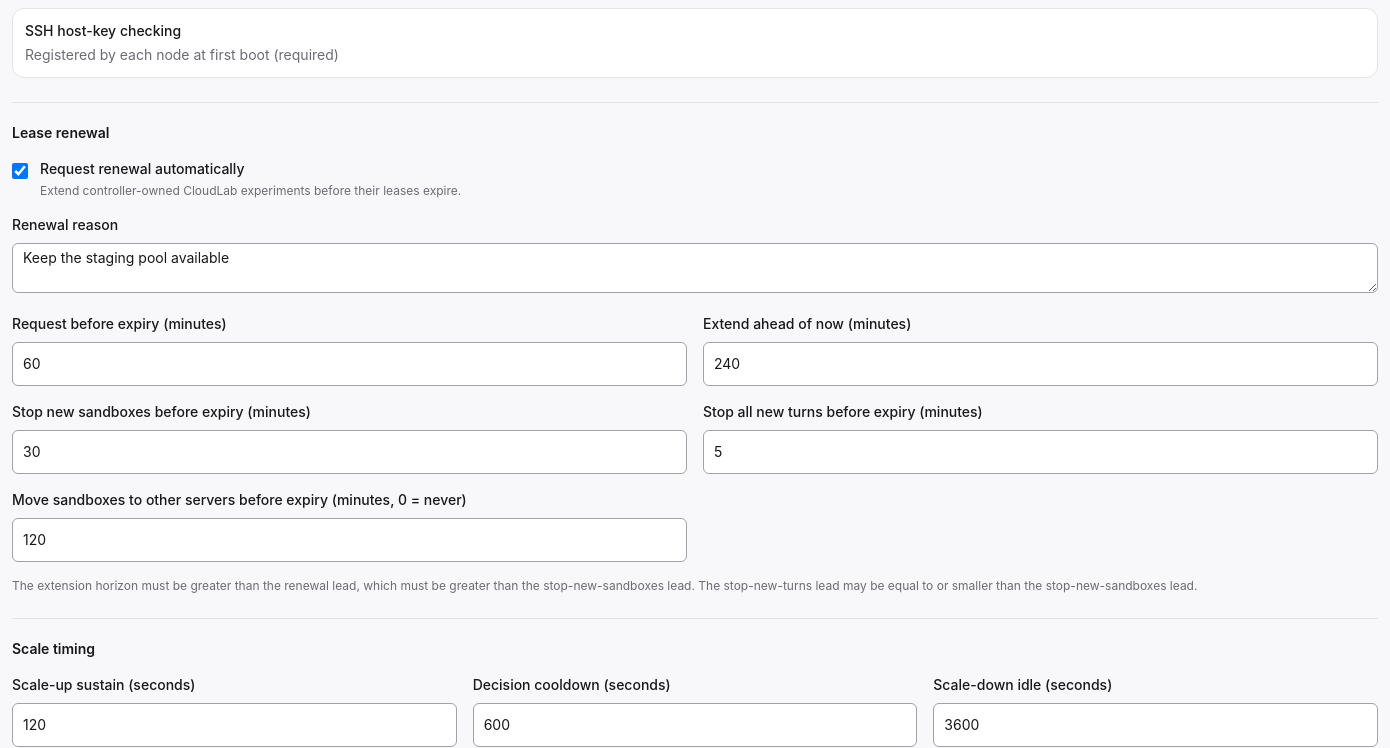
it: CloudLab auto-scaling panel › blocks unordered lease-renewal timing
The width and height of the screenshot is (1390, 748).
(page scrolled)
Replace the text in the number field labelled "Extend ahead of now (minutes)" with "60" at (1040, 364), box [703,342,1378,386]
(page scrolled)
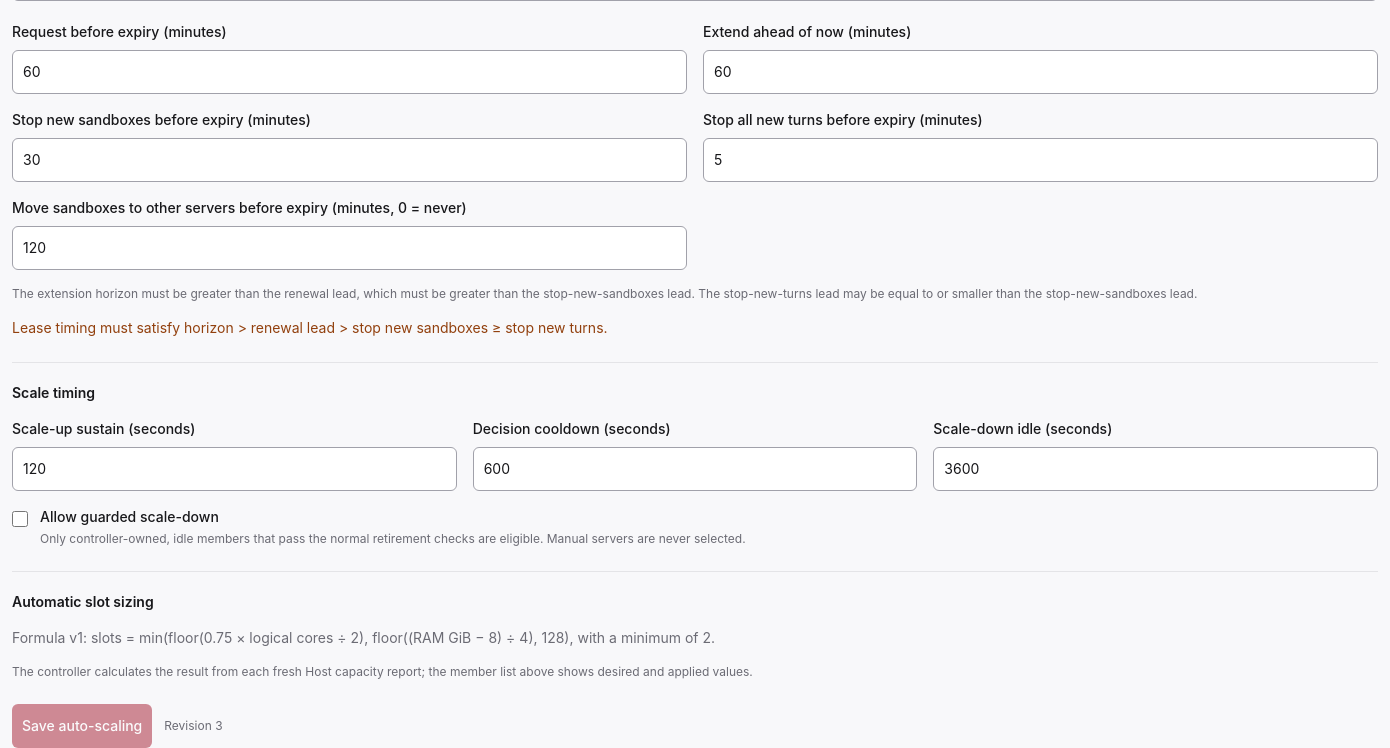
Check: the button "Save auto-scaling" is disabled, box [12,704,152,747]
Check: the message shows "horizon > renewal lead > stop new sandboxes ≥ stop new turns", box [12,319,608,336]
